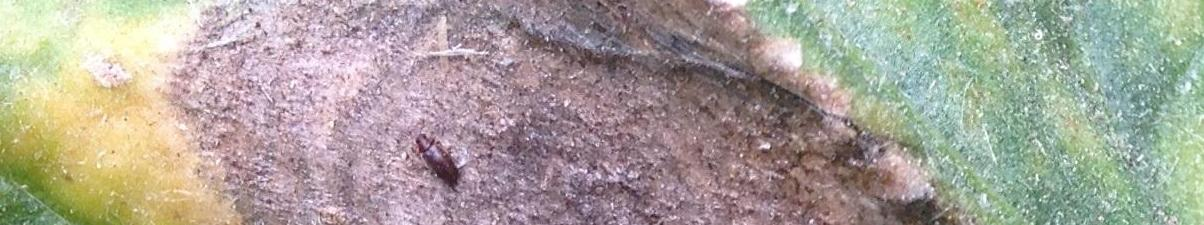Tomato Early blight leaf: (26, 0, 1204, 225)
